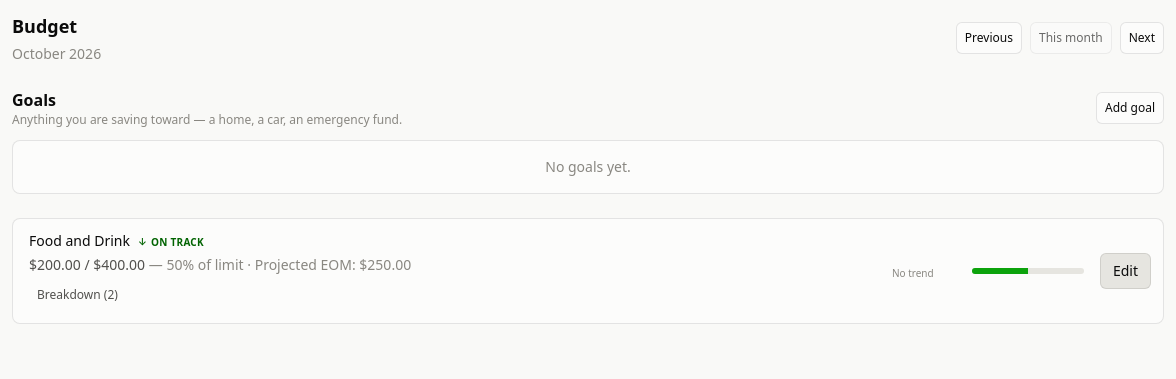
it: BudgetTab › expands a category to its sub-category breakdown
Expected: the text "$120.00" is not shown
Click the button "Breakdown (2)". click: (77, 295)
box: [29,279,126,311]
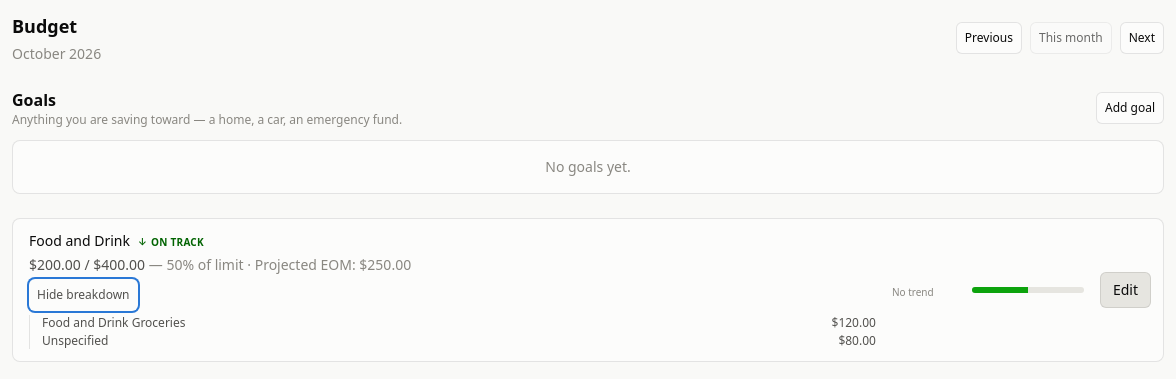
Expected: the text "$120.00" is shown, [832,315,876,331]
Expected: the text "Unspecified" is shown, [42,333,108,349]
Expected: the text "$80.00" is shown, [838,333,876,349]
